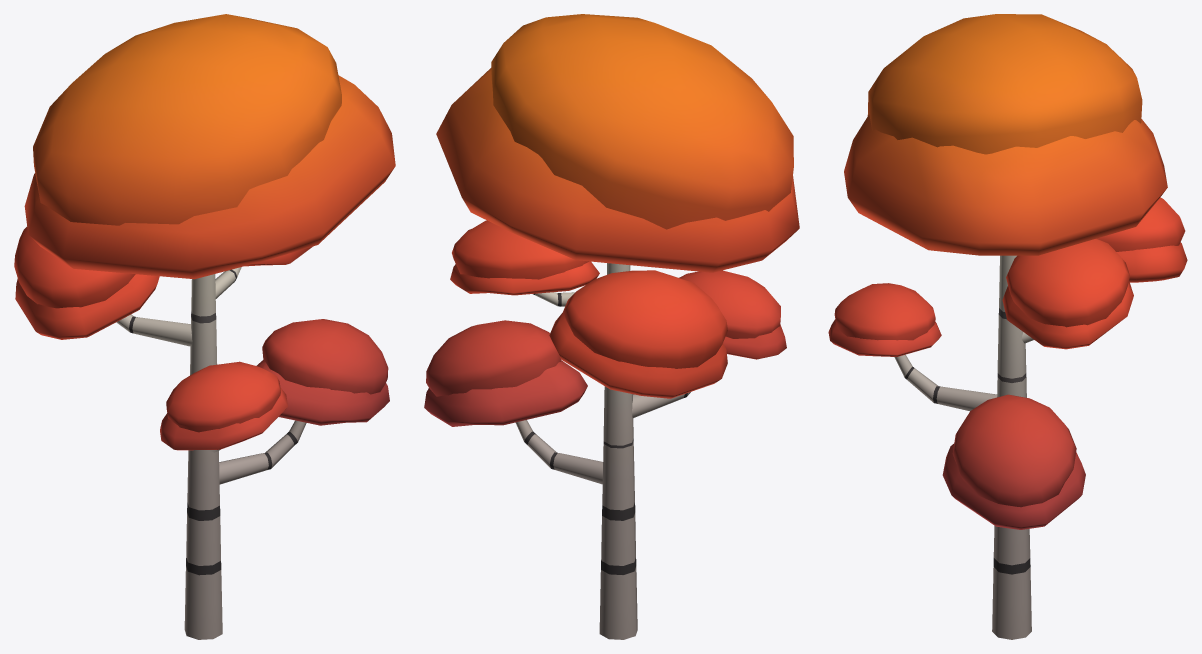
File: tree_autumn_1a.fbx
The picture shows the model from 3 angles, left to right: view 1: azimuth 30°, elevation 25°; view 2: azimuth 150°, elevation 25°; view 3: azimuth 270°, elevation 25°; orthographic projection.
Parts seen in each view (by area): view 1: model_0.001; view 2: model_0.001; view 3: model_0.001.
Boxes of the visible parts, box(x1,y1,x2,y2) form: model_0.001: box(14, 14, 395, 639); model_0.001: box(424, 14, 799, 639); model_0.001: box(828, 14, 1187, 639).
Bounding box in the file's own units: 260 × 425 × 229.
